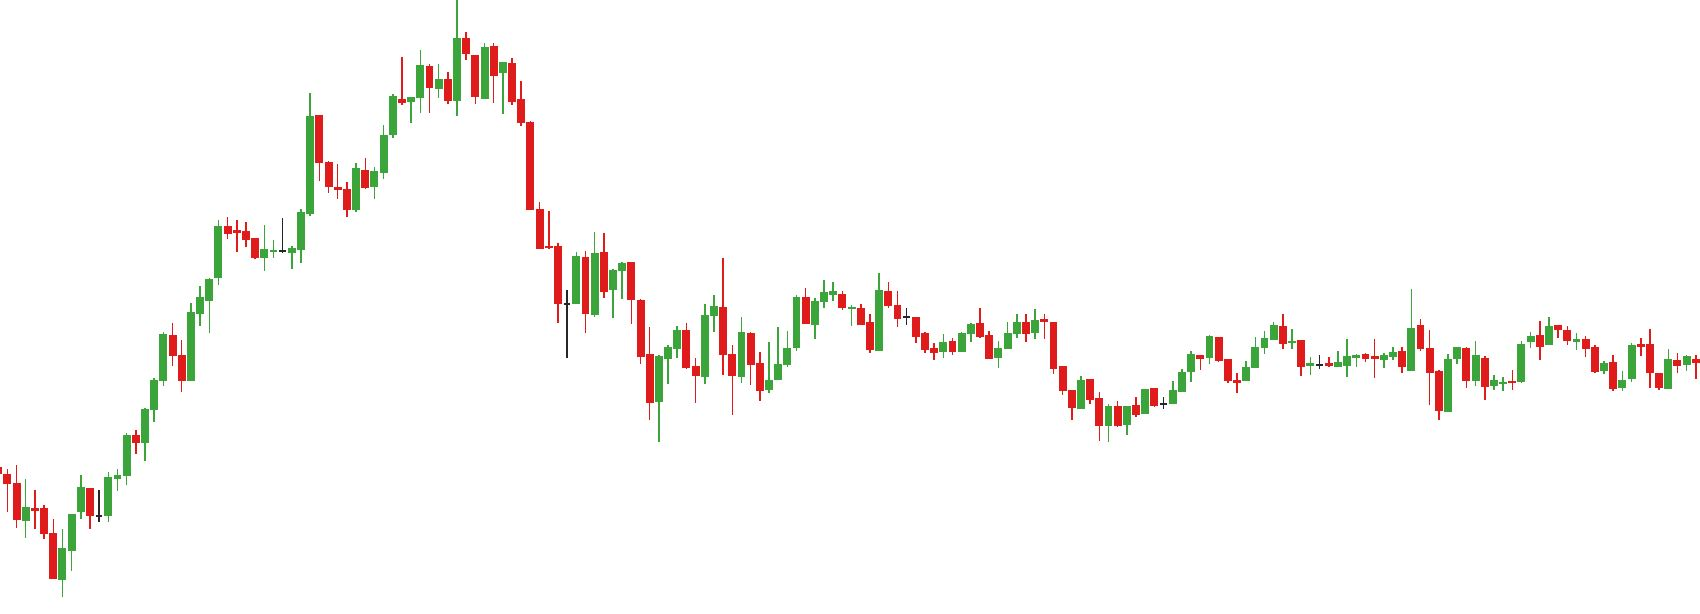buy: (691, 323, 749, 412)
sell: (399, 7, 480, 113), (817, 267, 892, 334)
